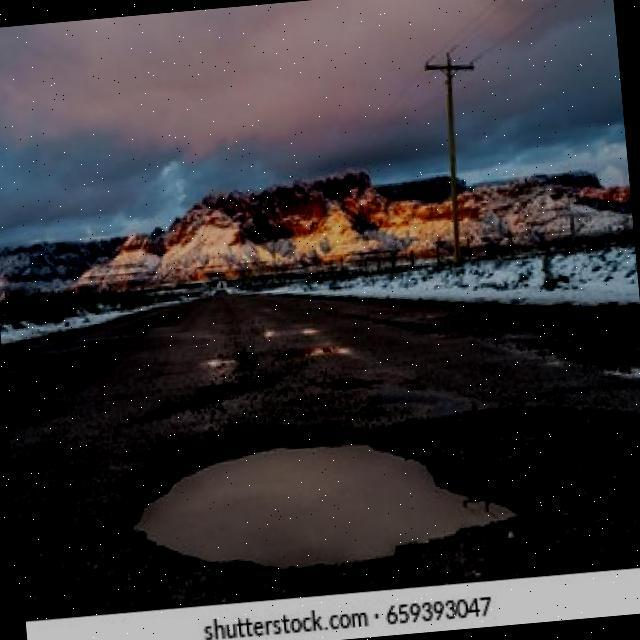Pothole: (121, 429, 532, 569)
